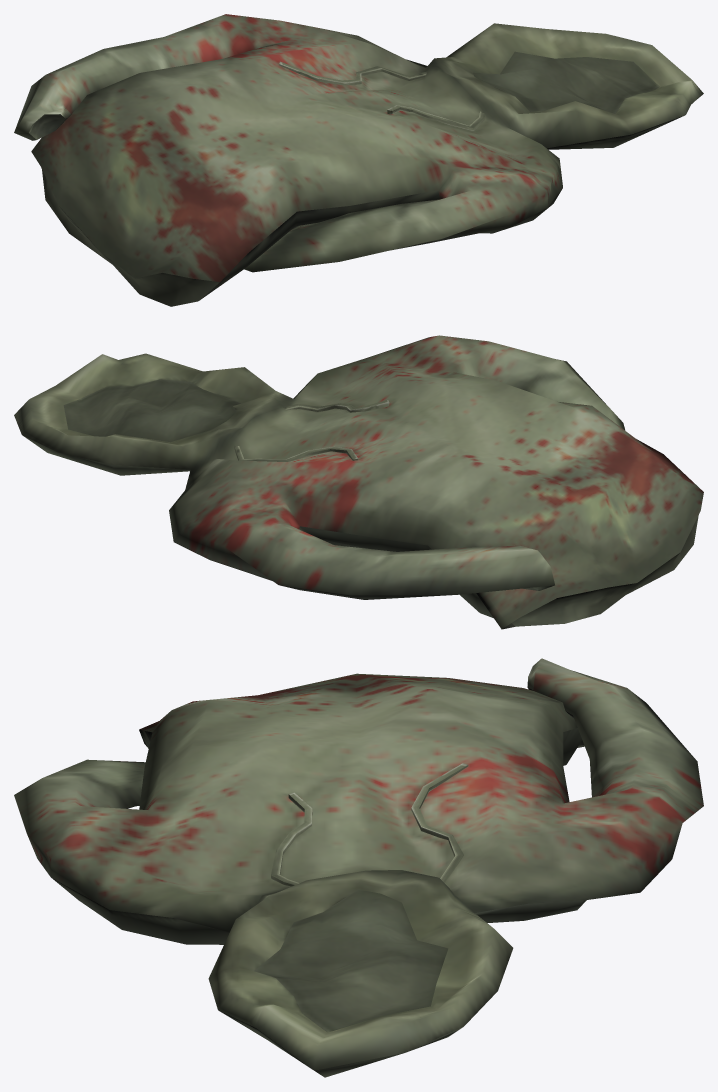
File: PiErSenGongYu_01_maoshan_01.FBX
The picture shows the model from 3 angles, top to bottom: view 1: azimuth 30°, elevation 25°; view 2: azimuth 150°, elevation 25°; view 3: azimuth 270°, elevation 25°; orthographic projection. The views are drawn at different scales.
Parts seen in each view (by area): view 1: PiErSenDeGongYu_maoshan_01; view 2: PiErSenDeGongYu_maoshan_01; view 3: PiErSenDeGongYu_maoshan_01.
Boxes of the visible parts, x1,y1,x2,y2 form: PiErSenDeGongYu_maoshan_01: (14, 14, 703, 306); PiErSenDeGongYu_maoshan_01: (14, 335, 703, 629); PiErSenDeGongYu_maoshan_01: (14, 658, 703, 1077).
Bounding box in the file's own units: 267 × 53.91 × 219.
